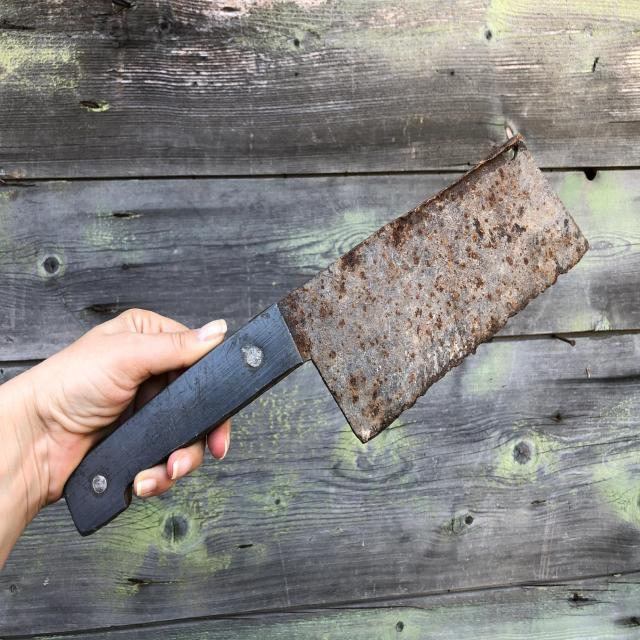cleaver: (1, 148, 589, 530)
